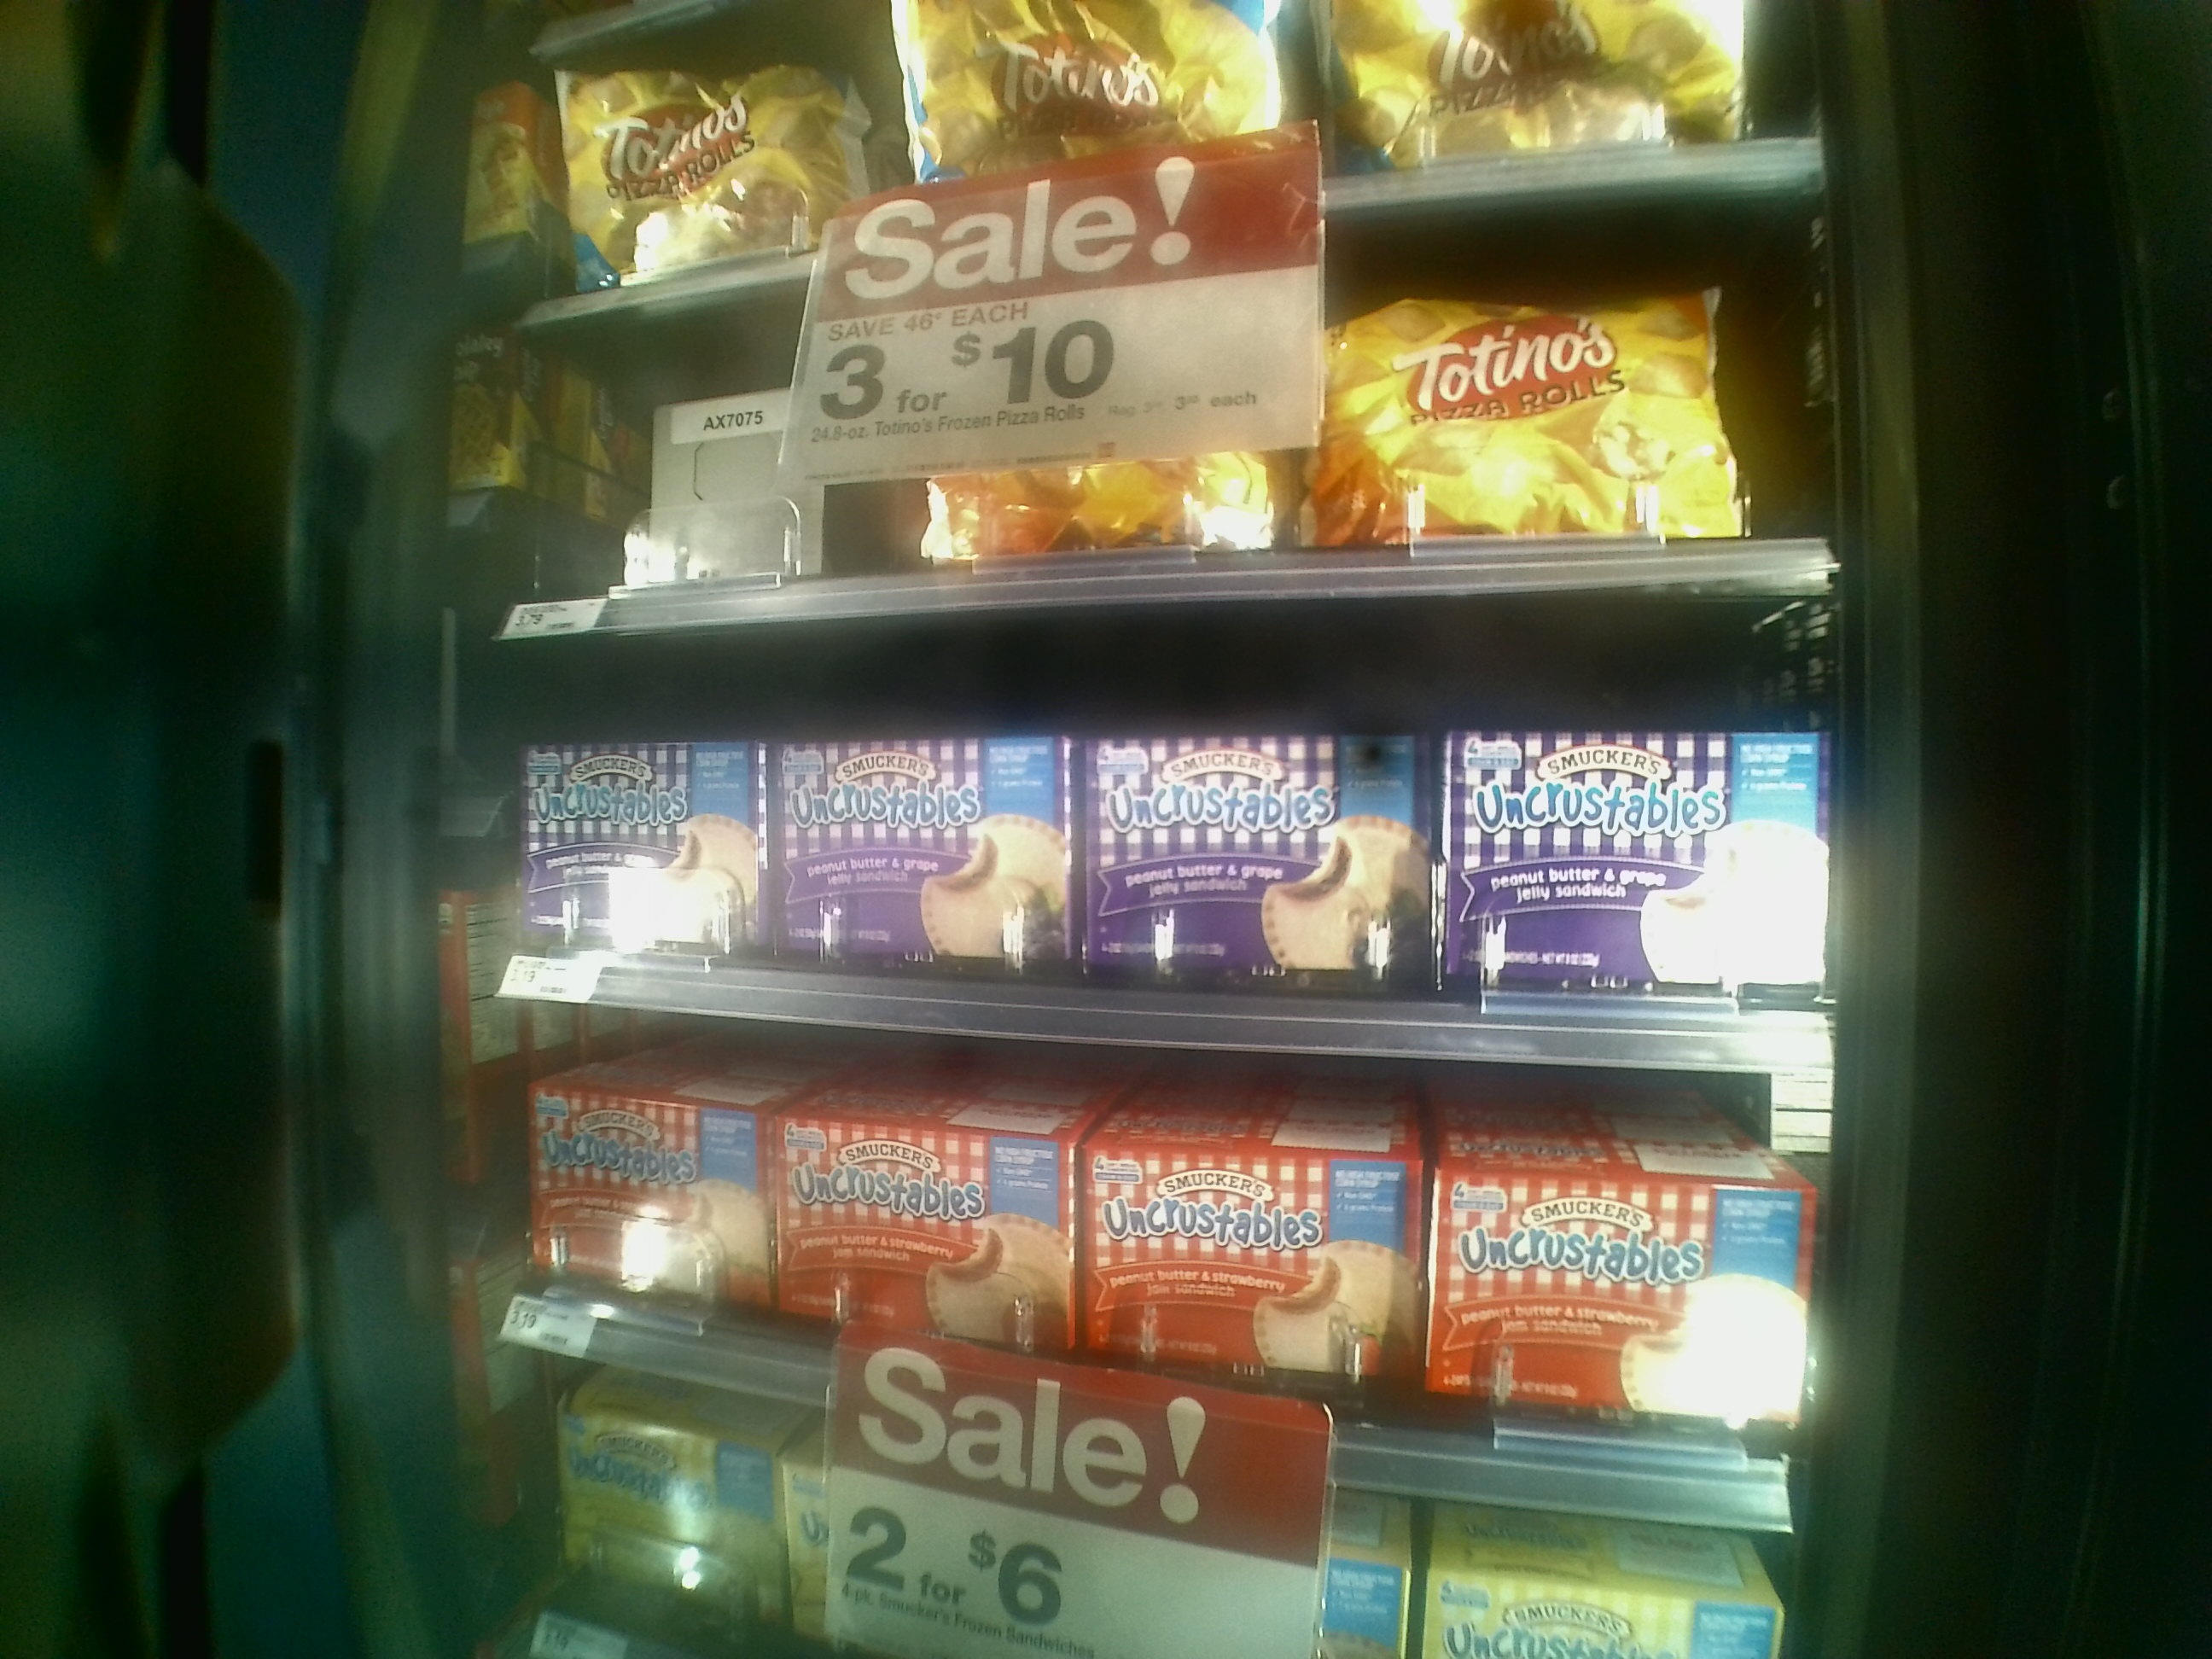shelf: (449, 999, 1832, 1528), (455, 615, 1850, 1082), (469, 296, 1858, 617)
